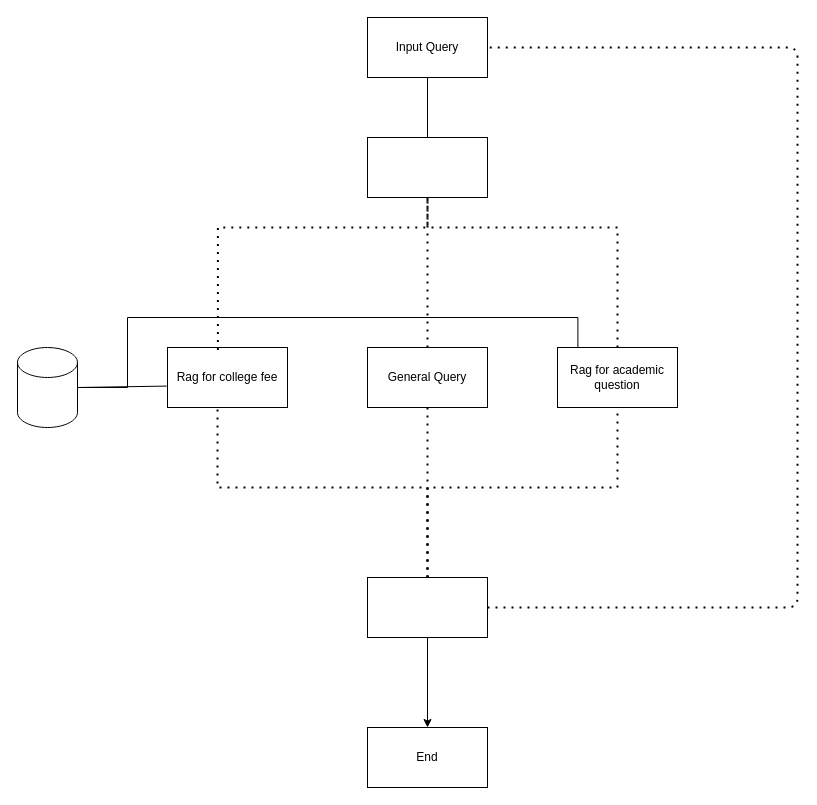
Image size: 817x805. Some labels were removed from this diagram. Each missing label, with the centre of its shape:
Conditonal Router: [427,167]
Response: [427,607]
Vector Store: [47,387]
